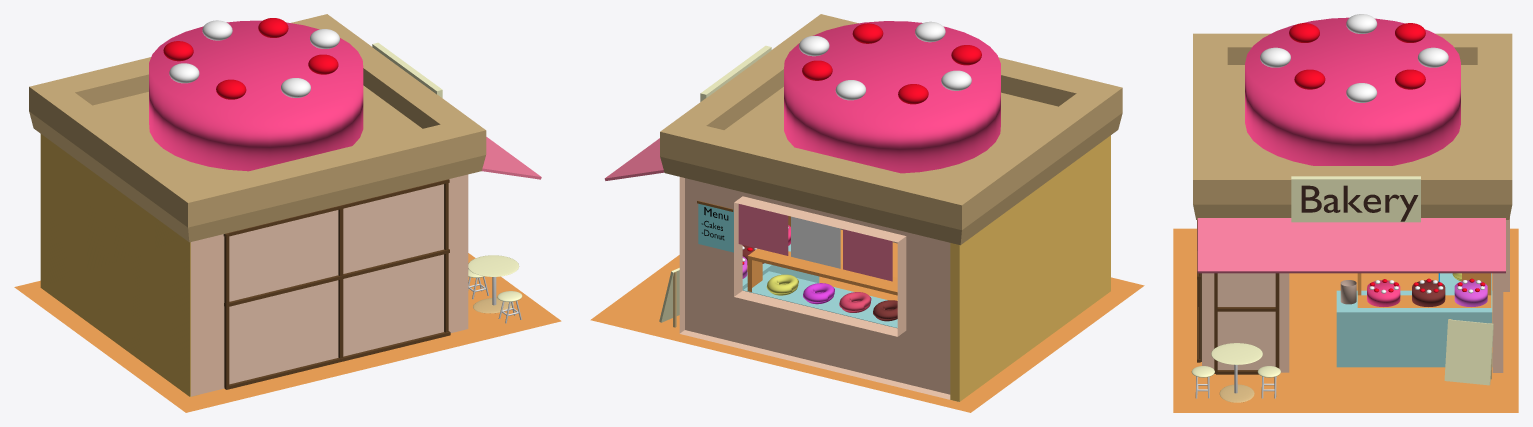
File: Bekery.glb
3 views of the same model, side by side, from view 1: azimuth 30°, elevation 25°; view 2: azimuth 150°, elevation 25°; view 3: azimuth 270°, elevation 25° (orthographic).
Visible parts, largest first — view 1: Cube.003, Cube.038, Cylinder.024, Cube.001, Plane, Cube.005, Cube.009, Cube.041, Cube.004, Cube.006, Sphere.004, Cube.008 (+10 smaller); view 2: Cube.038, Cube.002, Cube.001, Cylinder.024, Plane, Cube.020, Plane.001, Plane.003, Plane.002, Cube.016, Plane.005, Cube.041 (+14 smaller); view 3: Cube.038, Cylinder.024, Plane, Cube.041, Cube.010, Cube.022, Cube.039, Cube.030, Cube.002, Text.004, Cube.003, Cube.021 (+16 smaller).
Boxes of the visible parts, x1,y1,x2,y2 form: Cube.003: (190,174,468,396); Cube.038: (29,14,486,242); Cylinder.024: (149,20,363,171); Cube.001: (40,134,197,396); Plane: (14,253,561,412); Cube.005: (224,331,450,389); Cube.009: (224,249,449,307); Cube.041: (482,137,541,179); Cube.004: (223,179,449,237); Cube.006: (224,233,229,388); Sphere.004: (468,255,519,276); Cube.008: (338,206,343,358); Cube.038: (660,14,1122,245); Cube.002: (679,177,958,401); Cube.001: (950,135,1110,401); Cylinder.024: (784,21,1000,173); Plane: (590,230,1144,412); Cube.020: (747,248,897,295); Plane.001: (738,204,788,255); Plane.003: (843,229,892,281); Plane.002: (791,216,840,268); Cube.016: (743,271,897,328); Plane.005: (698,203,733,252); Cube.041: (604,138,664,180); Cube.038: (1193,33,1512,219); Cylinder.024: (1245,17,1460,165); Plane: (1173,228,1518,412); Cube.041: (1197,218,1505,273); Cube.010: (1336,290,1492,367); Cube.022: (1212,273,1289,372); Cube.039: (1291,176,1420,222); Cube.030: (1444,319,1493,385); Cube.002: (1492,217,1509,372); Text.004: (1301,185,1418,221); Cube.003: (1202,273,1212,367); Cube.021: (1357,273,1491,307).
Size of the model in its own units: 10.1 by 6.58 by 8.
